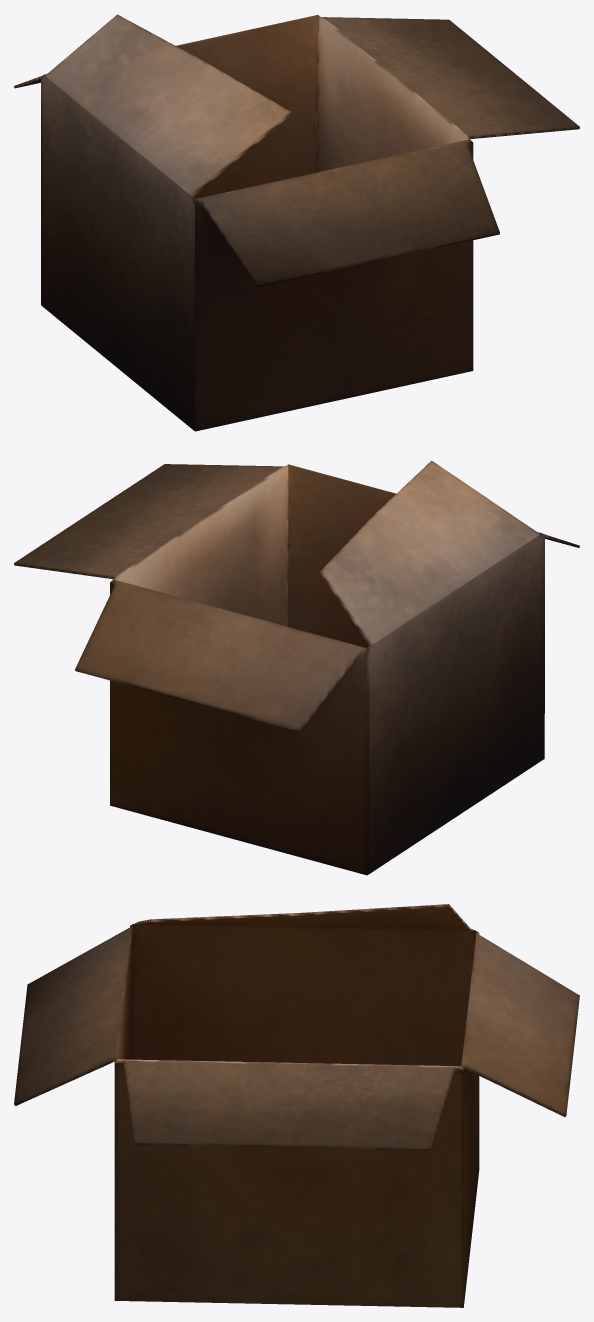
File: G2_DM_cartons_1.gltf
3 views of the same model, one above another, from view 1: azimuth 30°, elevation 25°; view 2: azimuth 150°, elevation 25°; view 3: azimuth 270°, elevation 25° (orthographic). The views are drawn at different scales.
Visible parts, largest first — view 1: carton.005; view 2: carton.005; view 3: carton.005.
Boxes of the visible parts, x1,y1,x2,y2 form: carton.005: (14, 14, 579, 431); carton.005: (14, 460, 579, 875); carton.005: (14, 904, 579, 1307).
Bounding box in the file's own units: 0.5484 × 0.3765 × 0.6481.
1 material, 1 textured.
